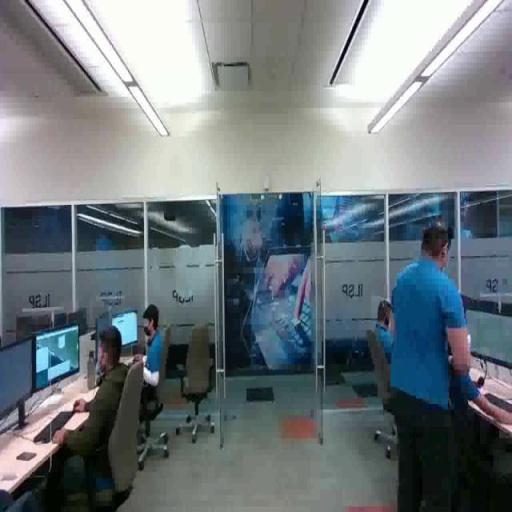person: (384, 219, 475, 512), (52, 316, 139, 512), (362, 295, 411, 415), (127, 302, 180, 403)
